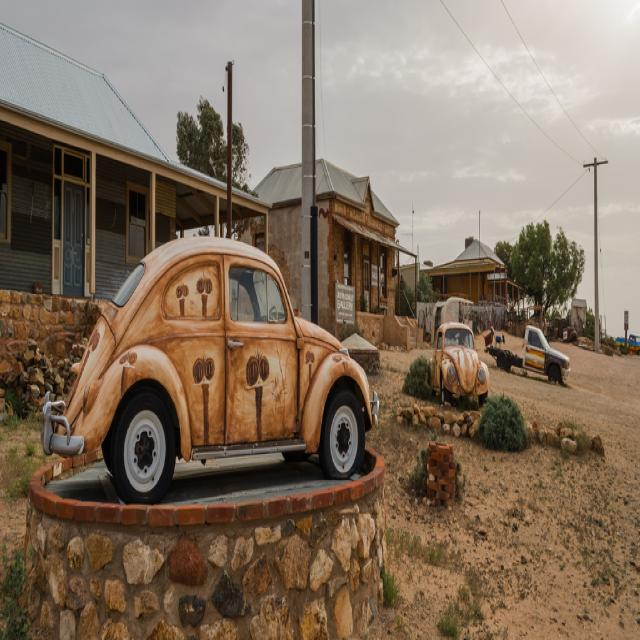car: (59, 225, 374, 502)
